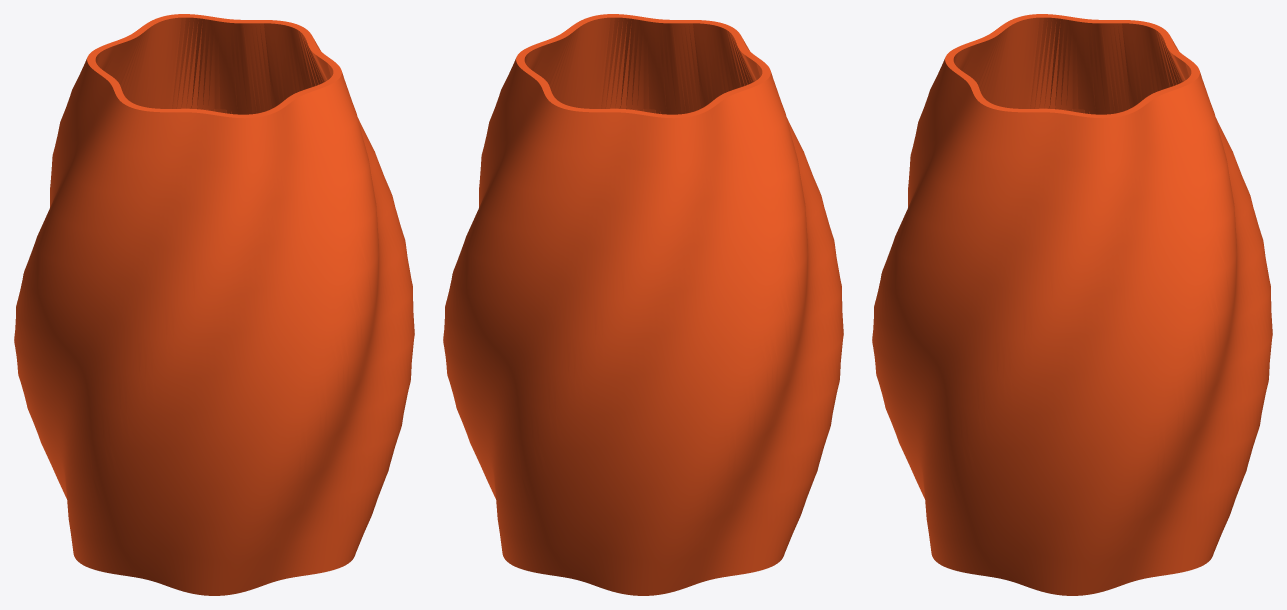
The model's file is vaso-geometrico.glb.
The picture shows the model from 3 angles, left to right: view 1: azimuth 30°, elevation 25°; view 2: azimuth 150°, elevation 25°; view 3: azimuth 270°, elevation 25°; orthographic projection.
Size of the model in its own units: 0.0906 by 0.12 by 0.0939.
